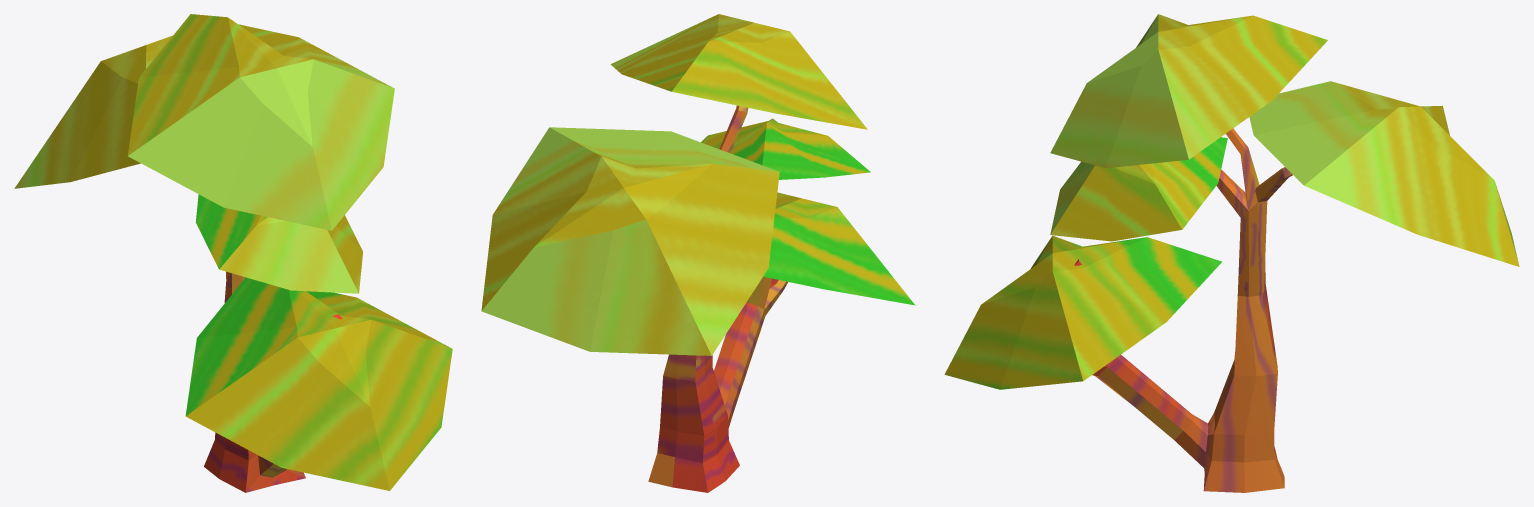
The model's file is Tree.obj.
The picture shows the model from 3 angles, left to right: view 1: azimuth 30°, elevation 25°; view 2: azimuth 150°, elevation 25°; view 3: azimuth 270°, elevation 25°; orthographic projection. The views are drawn at different scales.
Visible parts, largest first — view 1: Cube; view 2: Cube; view 3: Cube.
Part boxes in pixels (left/top/right/bottom): Cube: left=14, top=14, right=452, bottom=492; Cube: left=481, top=14, right=915, bottom=492; Cube: left=944, top=14, right=1519, bottom=492.
Bounding box in the file's own units: 1.06 × 1.69 × 1.96.
